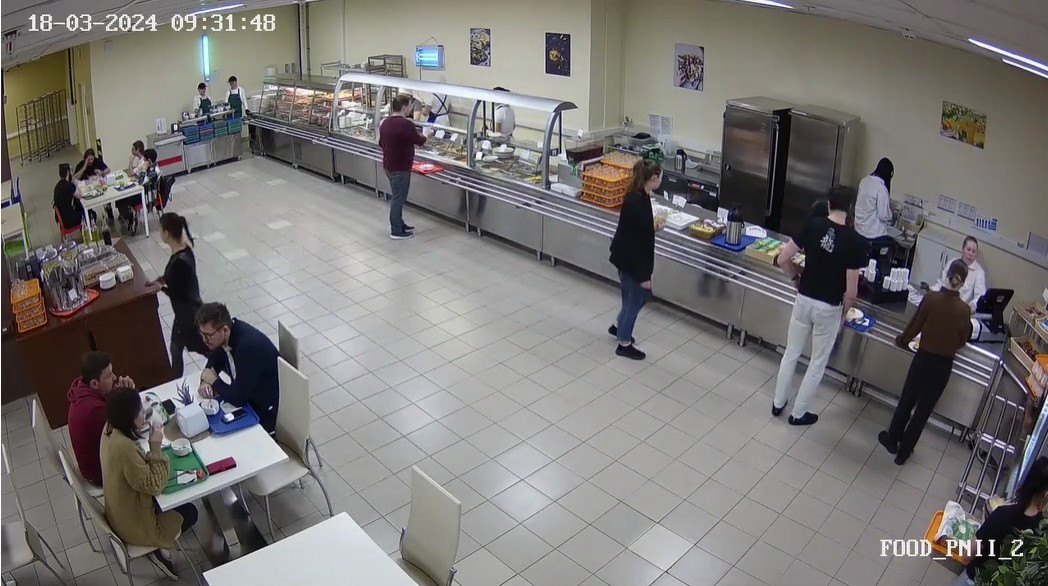Na_Kasse: (675, 172, 894, 423), (800, 250, 1001, 465)
Ne_v_Ocheredi: (147, 204, 198, 358)
Personal: (853, 142, 901, 237), (482, 80, 520, 135), (938, 227, 989, 265), (422, 80, 458, 130), (222, 69, 253, 118), (187, 76, 217, 123)
Vybiraet: (596, 158, 672, 368), (376, 94, 422, 241)
Za_Stolom: (97, 389, 175, 551), (193, 298, 276, 415), (58, 352, 121, 496), (50, 160, 90, 229), (134, 150, 169, 201), (71, 141, 110, 175), (121, 135, 146, 177)
